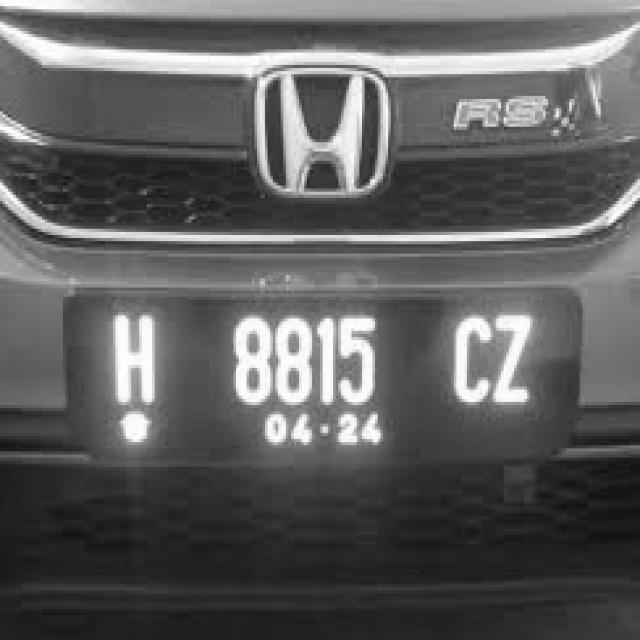1: (316, 310, 334, 412)
5: (340, 318, 372, 408)
8: (230, 313, 272, 426), (276, 314, 316, 411)
C: (456, 305, 492, 410)
H: (103, 300, 165, 424)
Z: (490, 316, 544, 410)
